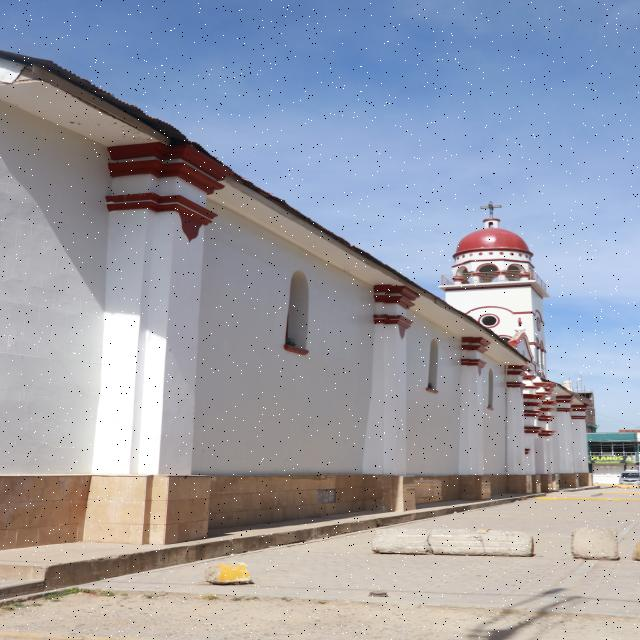CAMPANARIO: (441, 290, 576, 373)
CUPULA: (434, 201, 568, 281)
colonial-architecture-: (0, 39, 640, 640)
